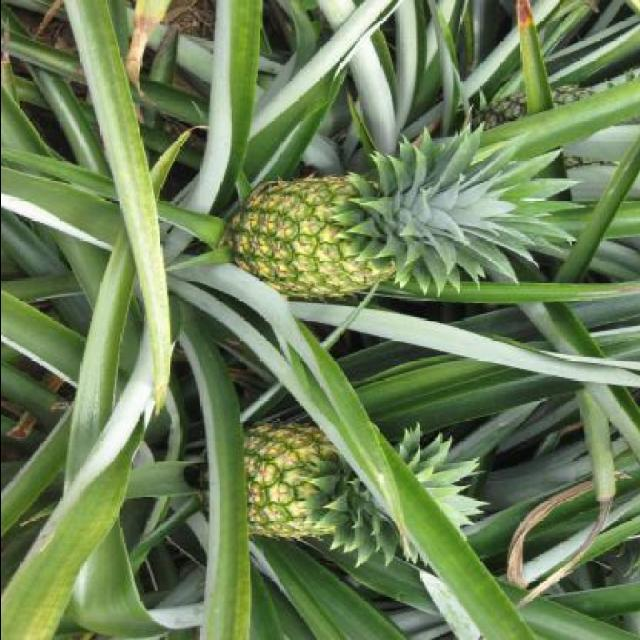Pineapple: (228, 120, 586, 302), (197, 420, 488, 574), (468, 67, 640, 173)
